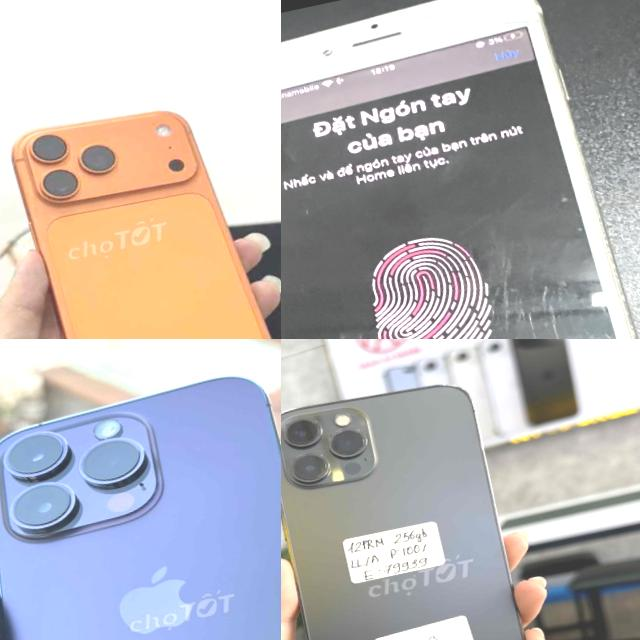gen_12_13: (281, 368, 543, 640)
gen_14: (0, 360, 281, 640)
gen_17: (3, 79, 281, 339)
gen_6: (281, 0, 640, 339)
physical_damage: (395, 0, 564, 68), (287, 10, 384, 72), (281, 61, 316, 121)
scratch: (422, 206, 615, 339)
